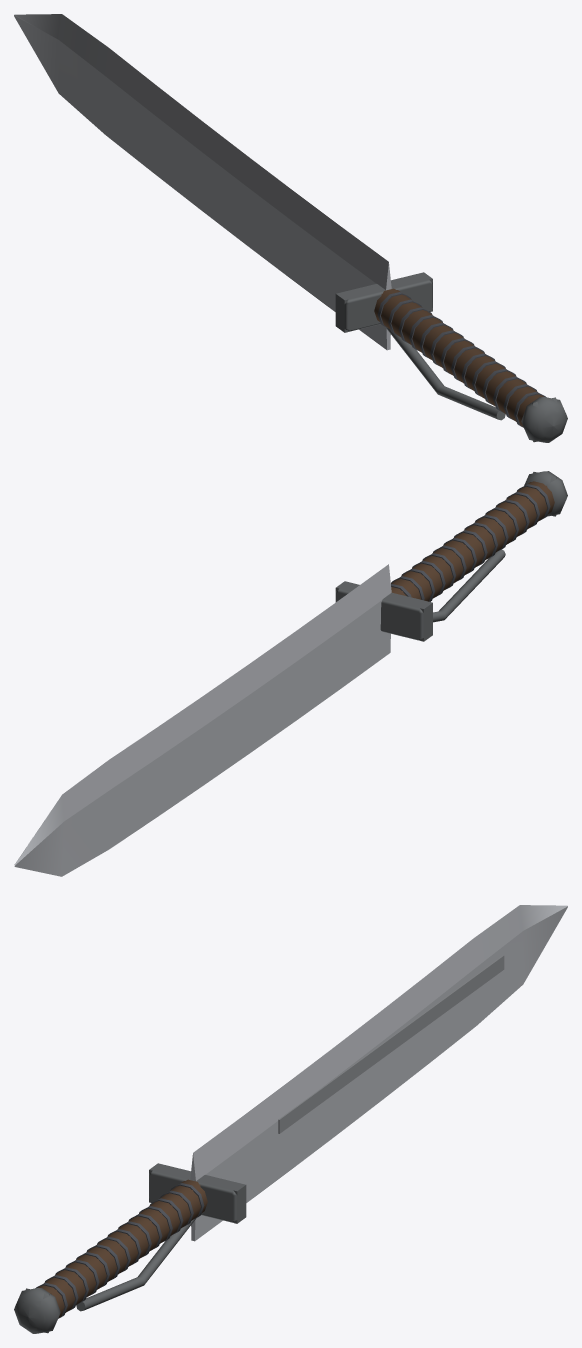
The model's file is m_machete.glb.
The picture shows the model from 3 angles, top to bottom: view 1: azimuth 30°, elevation 25°; view 2: azimuth 150°, elevation 25°; view 3: azimuth 330°, elevation 25°; orthographic projection.
Parts seen in each view (by area): view 1: L0, L1; view 2: L0, L1; view 3: L0, L1.
Boxes of the visible parts, <box> form: L0: <box>14,14,567,442</box>; L1: <box>335,272,566,442</box>; L0: <box>14,471,567,876</box>; L1: <box>335,472,557,641</box>; L0: <box>14,905,567,1333</box>; L1: <box>15,1163,246,1333</box>.
Bounding box in the file's own units: 0.068 × 0.0768 × 0.7198.
